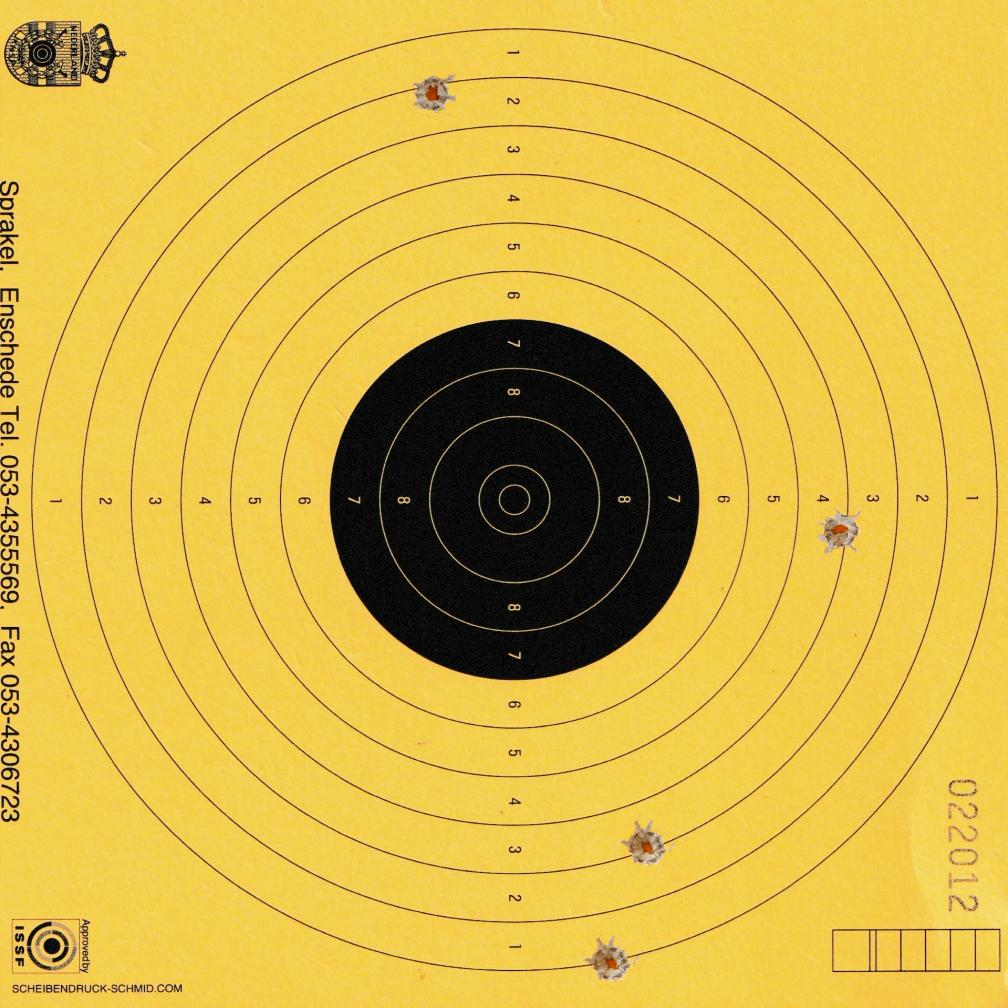1: (588, 940, 630, 985)
2: (410, 76, 455, 114)
3: (625, 821, 664, 868)
4: (816, 508, 861, 555)
Target: (29, 24, 999, 976)
black_contour: (328, 319, 698, 681)
